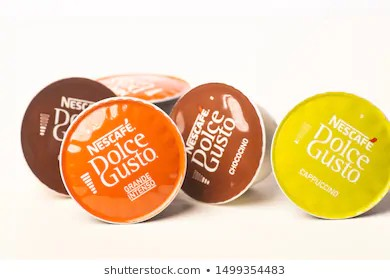nescafe-dolce: (60, 97, 187, 226), (272, 92, 390, 218), (172, 84, 261, 210), (15, 84, 105, 200)
